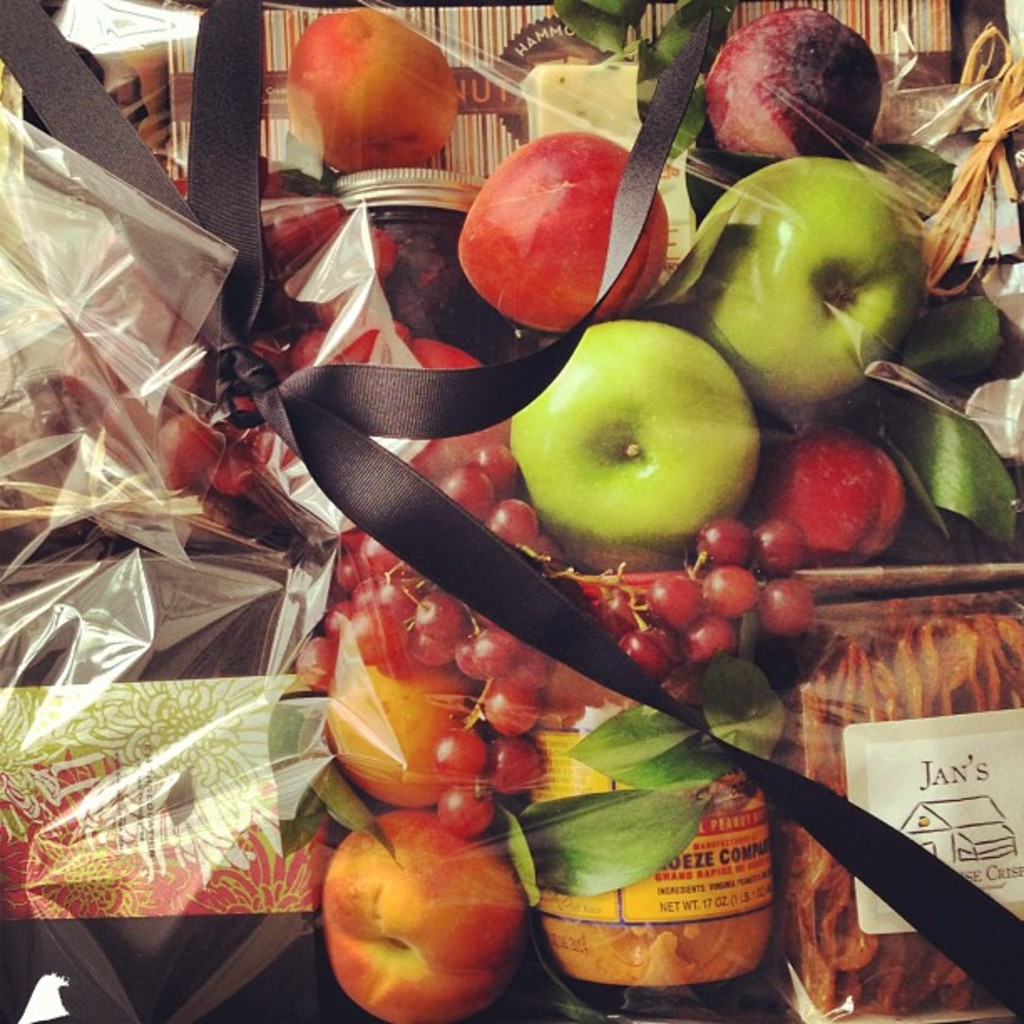Apple: (522, 312, 783, 552), (692, 152, 928, 413), (319, 804, 532, 1020)
